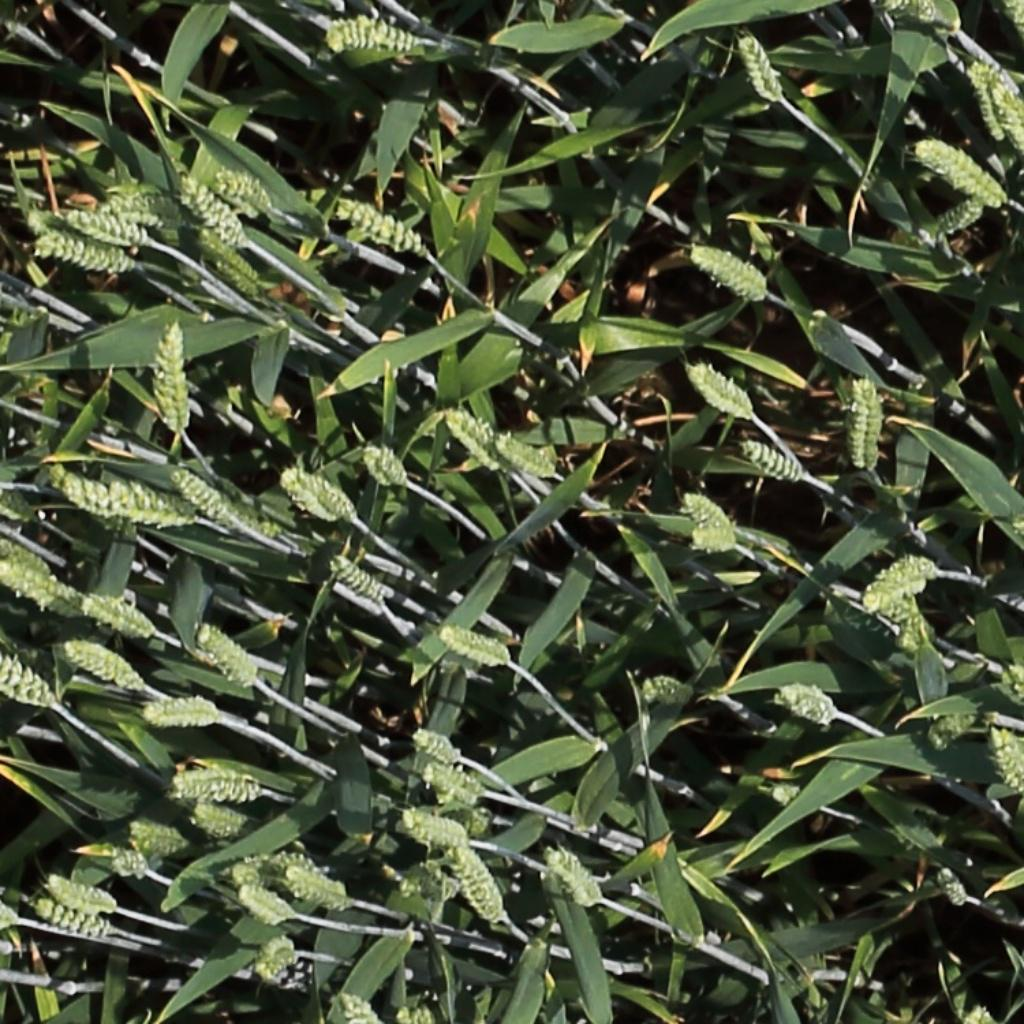0-0: (49, 472, 189, 524), (917, 136, 1007, 203), (176, 169, 249, 248), (447, 842, 509, 929), (335, 195, 427, 253), (60, 197, 151, 248), (196, 228, 263, 296), (169, 465, 240, 528), (737, 25, 790, 109), (442, 405, 507, 473), (62, 641, 146, 692), (195, 623, 260, 688), (975, 68, 1022, 157), (544, 846, 606, 913), (384, 861, 455, 919), (861, 589, 940, 641), (689, 360, 757, 420), (0, 637, 55, 711), (692, 244, 770, 296), (282, 468, 356, 522), (202, 499, 292, 542), (0, 563, 80, 611), (220, 871, 291, 925), (94, 189, 205, 223), (158, 311, 188, 436), (241, 848, 328, 888), (170, 764, 264, 801), (79, 595, 158, 637), (35, 234, 124, 270), (142, 688, 221, 728), (30, 898, 111, 937), (330, 554, 389, 606), (985, 722, 1024, 800), (438, 626, 514, 666), (0, 522, 53, 578), (43, 877, 118, 916), (867, 549, 940, 589), (741, 438, 808, 481), (287, 865, 356, 906), (496, 434, 559, 477), (420, 764, 487, 804), (251, 933, 300, 987), (402, 813, 473, 850), (360, 442, 412, 491), (682, 490, 737, 536), (326, 24, 423, 50), (856, 371, 880, 476), (776, 688, 841, 726), (210, 172, 275, 210), (986, 650, 1024, 711), (932, 862, 973, 916), (925, 711, 977, 753), (76, 845, 150, 873), (935, 196, 987, 232), (23, 206, 75, 241), (412, 730, 462, 765), (335, 987, 376, 1024), (192, 808, 247, 835), (131, 826, 185, 850), (0, 472, 27, 517), (891, 1, 940, 23), (643, 684, 696, 703), (689, 531, 740, 547)
